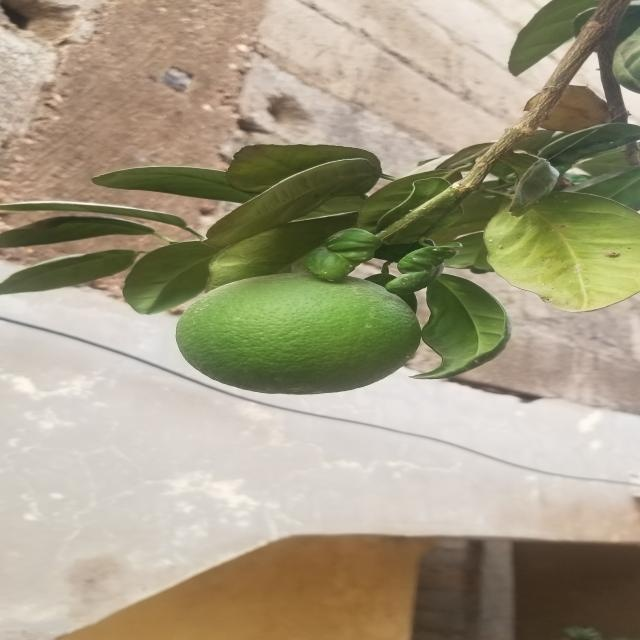agrume: (167, 270, 444, 416)
